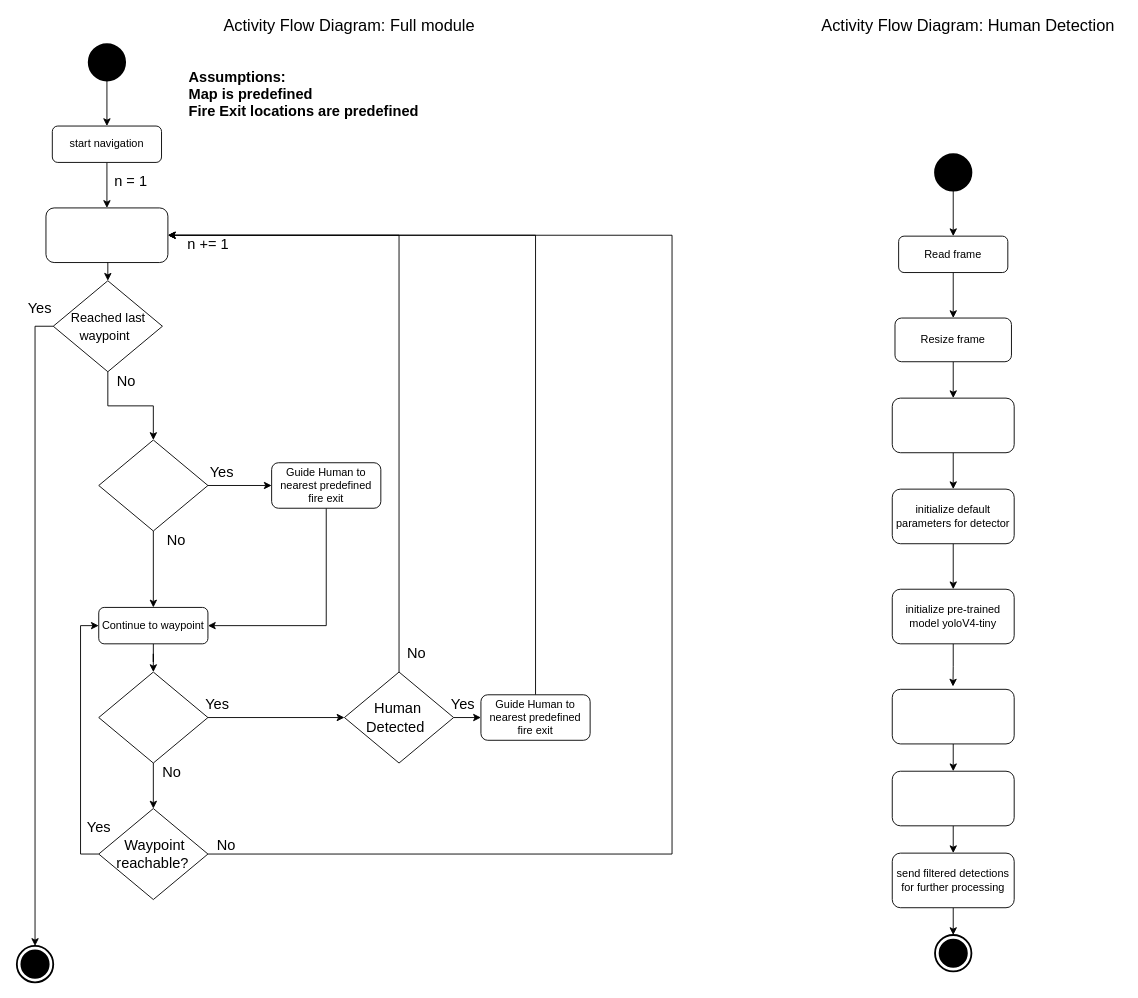
The diagram is 1138 pixels wide and 998 high, and some of its shapes have lost their labels. Here are the shapes that lost their labels. From the top down, the box of each, then its label:
(45, 207, 168, 263): Navigate to predefined nth waypoint and start Human Detection
(891, 397, 1014, 453): set confidence_threshold
(98, 439, 208, 531): Human Detected on the way
(98, 671, 208, 763): Waypoint reached?
(891, 688, 1014, 744): get detections on the frame
(891, 770, 1014, 826): remove noise by filtering detections with some threshold
